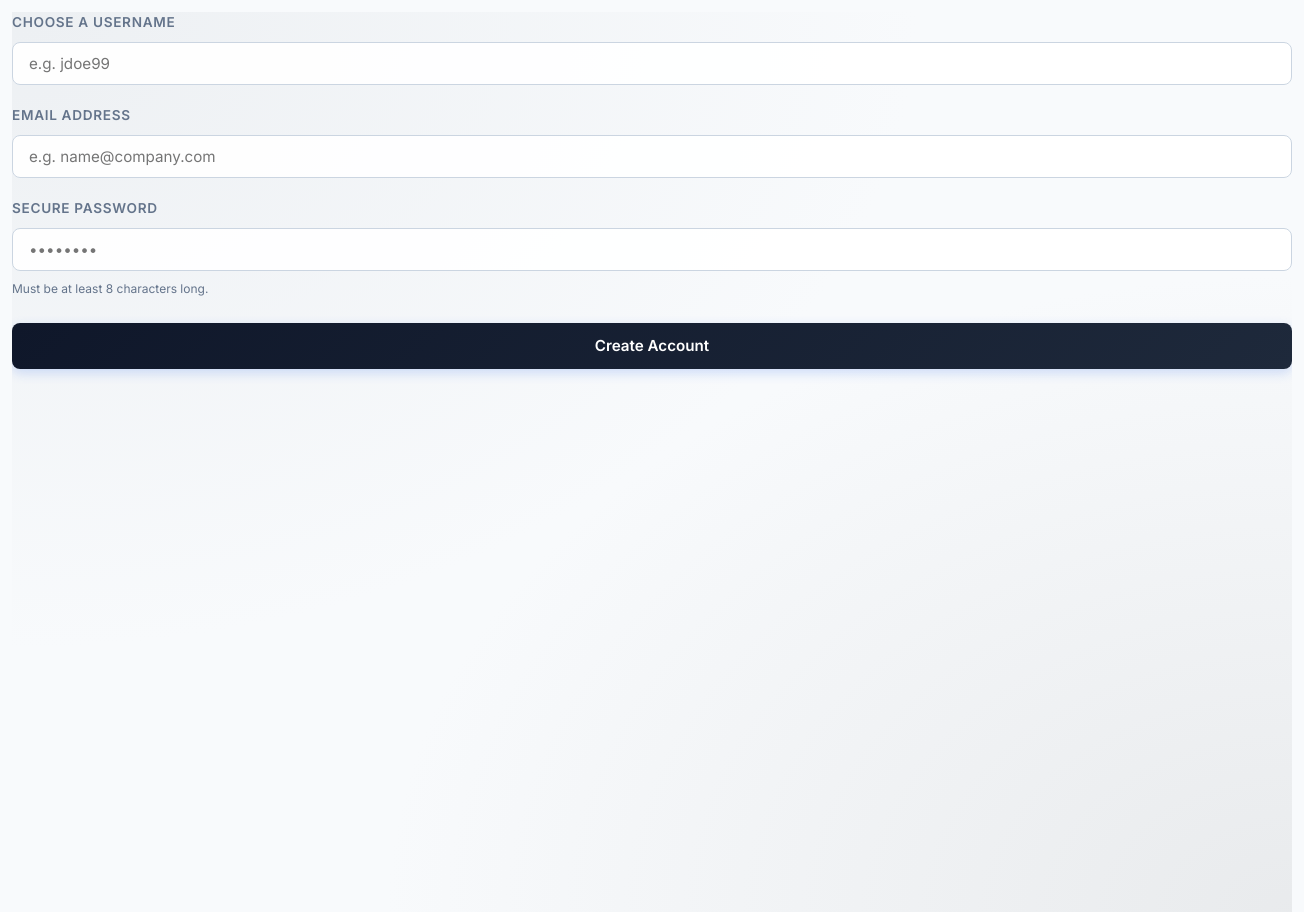
Test: RegisterForm › shows error when email is already registered
Type "jane" into the field labelled "Choose a Username".
click(652, 64); type("jane")  # box x1=12 y1=42 x2=1292 y2=85
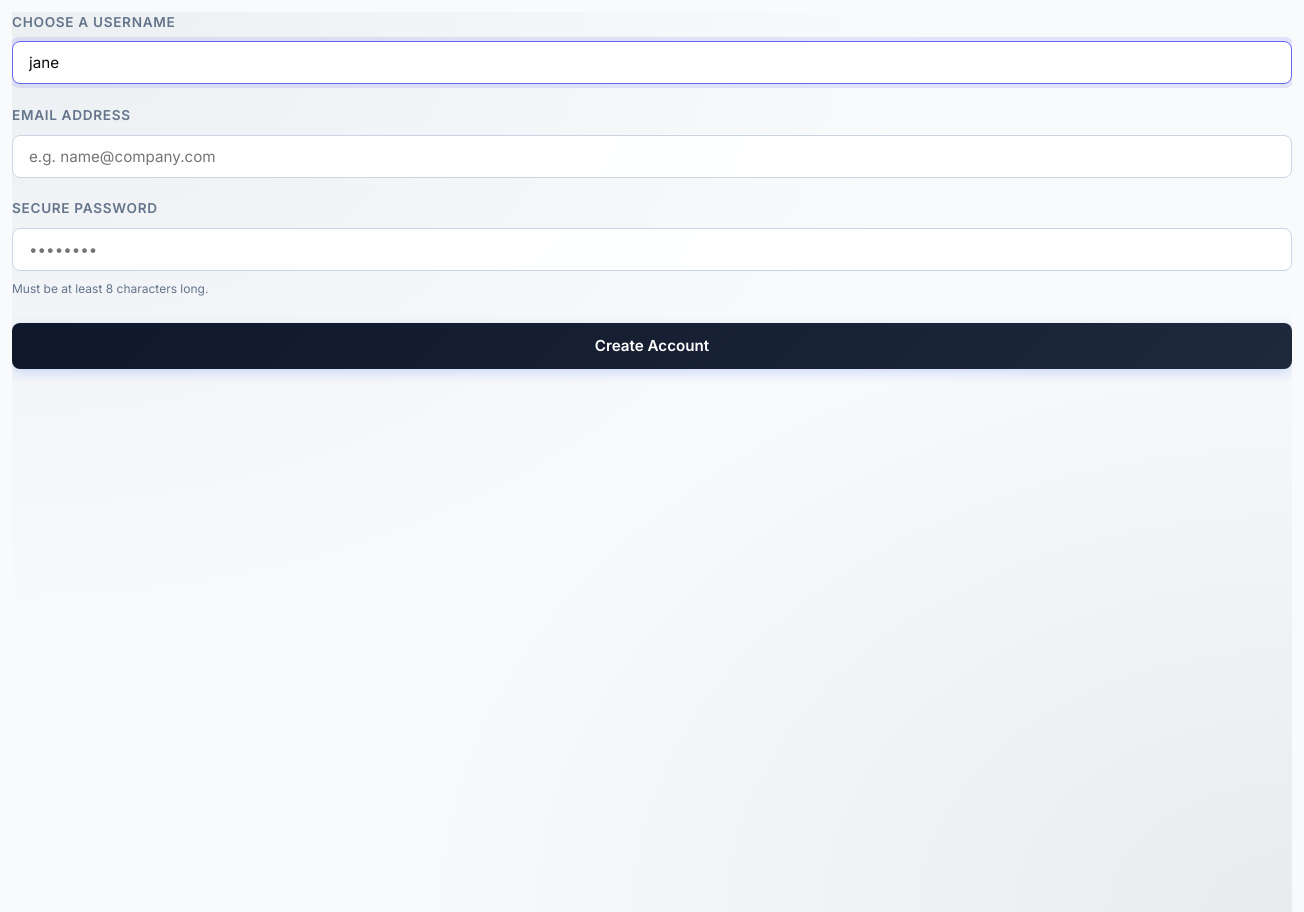
Type "jane@example.com" into the field labelled "Email Address".
click(652, 157); type("jane@example.com")  # box x1=12 y1=135 x2=1292 y2=178
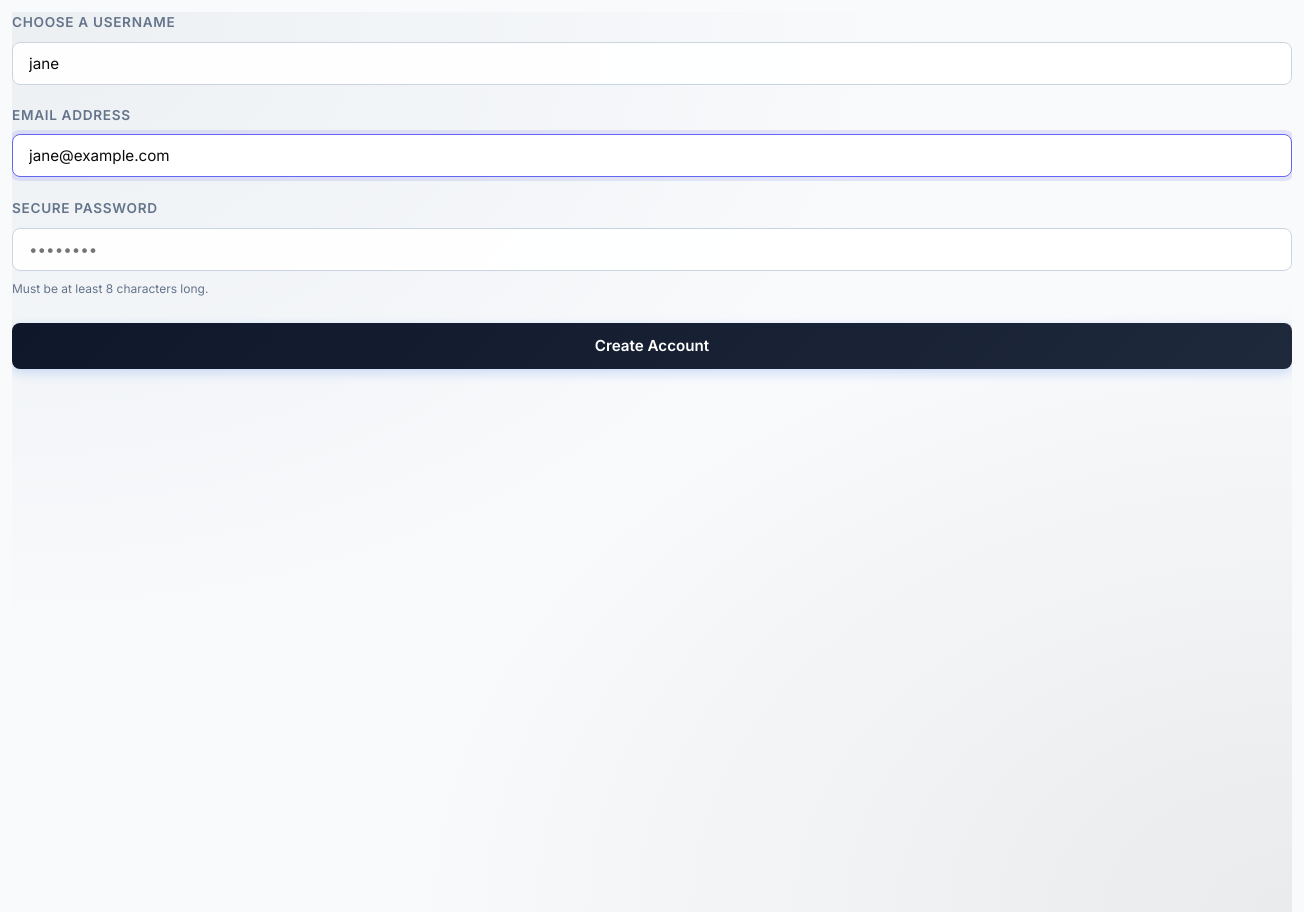
Type "strongpass123" into the password field labelled "Secure Password".
click(652, 250); type("strongpass123")  # box x1=12 y1=228 x2=1292 y2=271
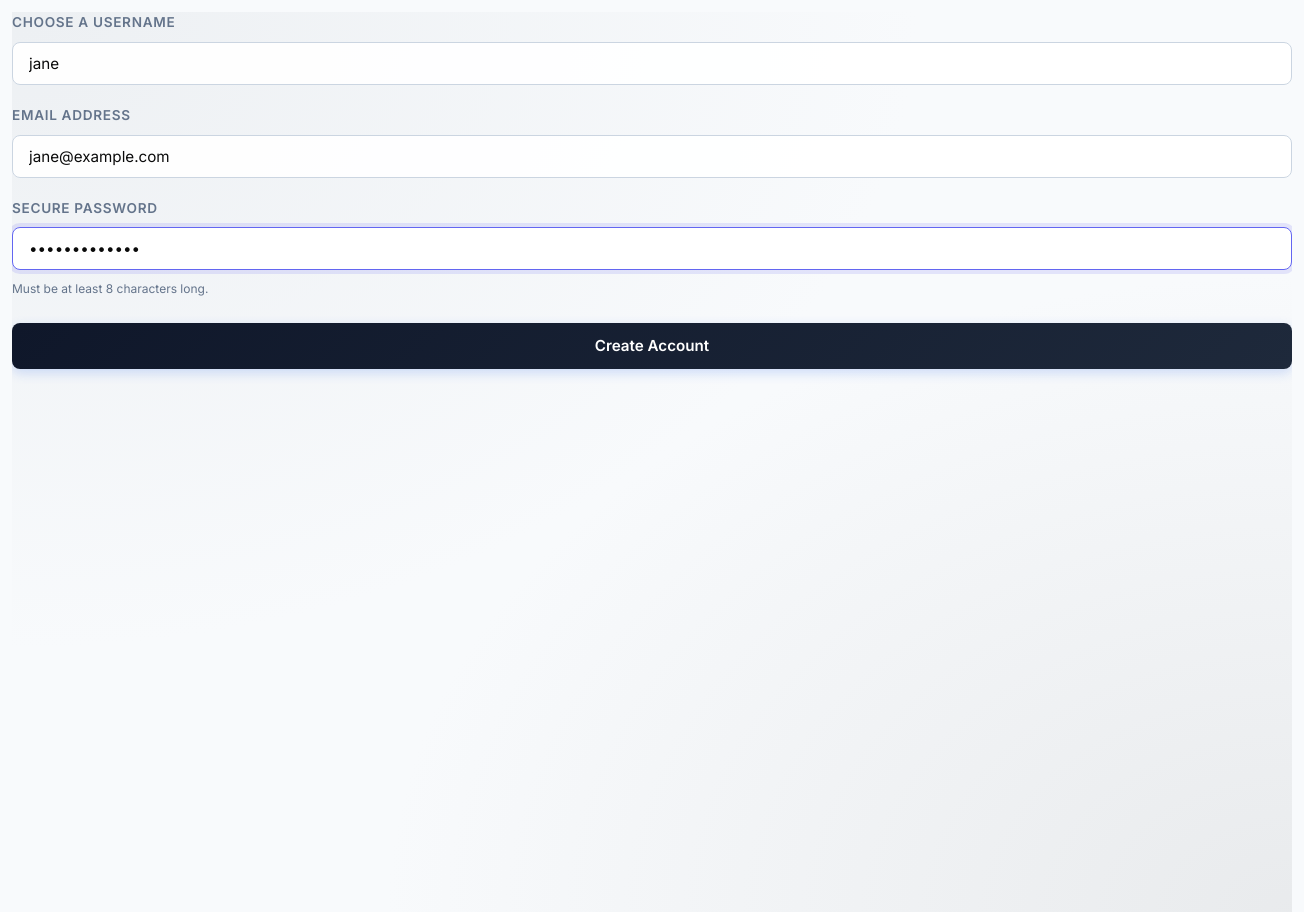
Click the button "Create Account".
click(652, 346)  # box x1=12 y1=323 x2=1292 y2=369
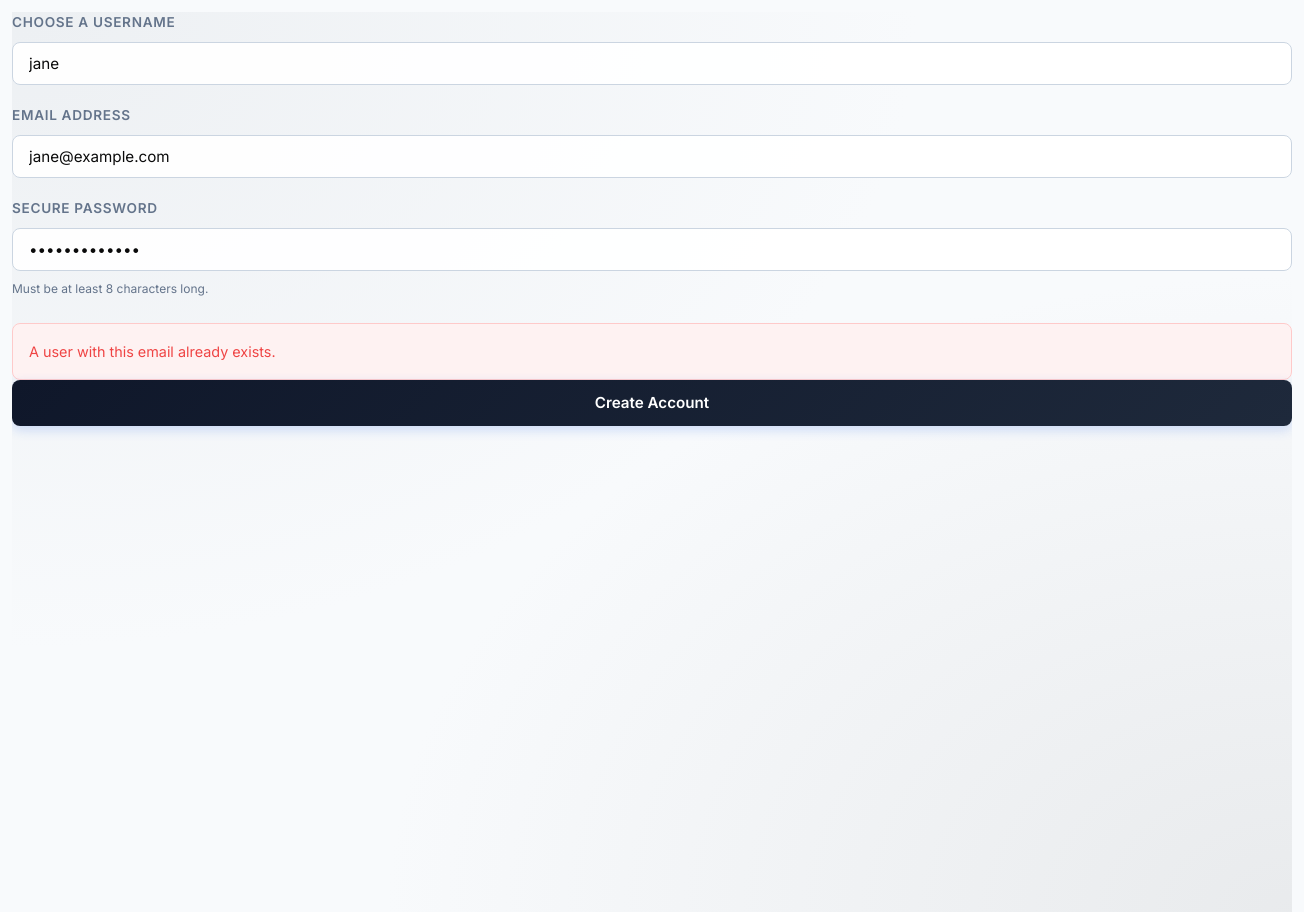
Expected: the text "A user with this email already exists." is shown, x1=12 y1=323 x2=1292 y2=380
